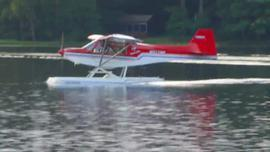aircraft: (46, 27, 218, 85)
